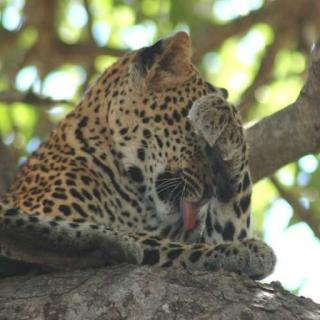Leopard: (13, 37, 294, 271)
